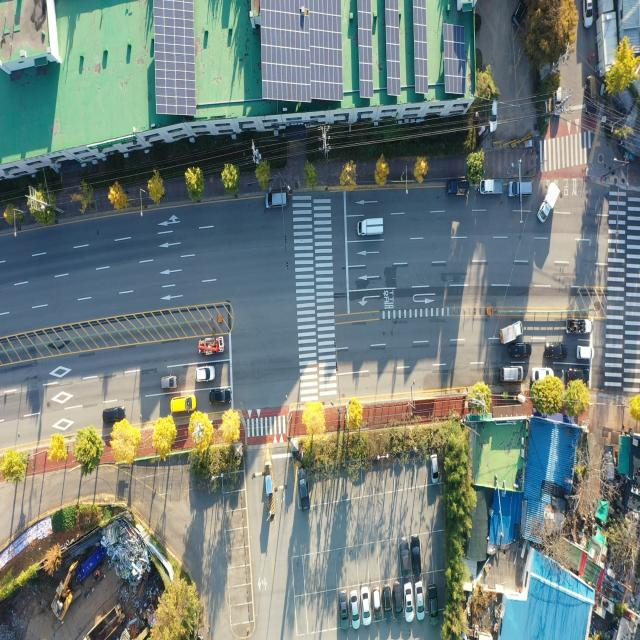car: (565, 364, 590, 385), (488, 94, 500, 135), (506, 183, 532, 201), (168, 396, 195, 413), (508, 341, 532, 359), (267, 190, 289, 208), (300, 471, 310, 510), (502, 365, 524, 382), (399, 539, 409, 576), (103, 409, 126, 425), (394, 583, 403, 620), (196, 367, 215, 384), (428, 585, 436, 623), (543, 344, 563, 359), (412, 544, 422, 574), (406, 582, 414, 619), (341, 593, 349, 630), (554, 87, 564, 116), (362, 588, 370, 624), (416, 584, 424, 620), (210, 390, 230, 404), (514, 1, 524, 28), (532, 367, 551, 381), (352, 590, 359, 628), (384, 584, 392, 617), (576, 346, 593, 361), (585, 0, 593, 28), (372, 585, 379, 615), (162, 377, 178, 390), (431, 456, 438, 484)
medium_truck: (80, 603, 125, 640)
small_truck: (539, 182, 561, 224), (356, 215, 385, 239), (584, 73, 599, 119), (199, 337, 227, 358), (500, 324, 522, 348), (566, 321, 592, 338), (447, 180, 470, 198), (479, 179, 503, 196)
